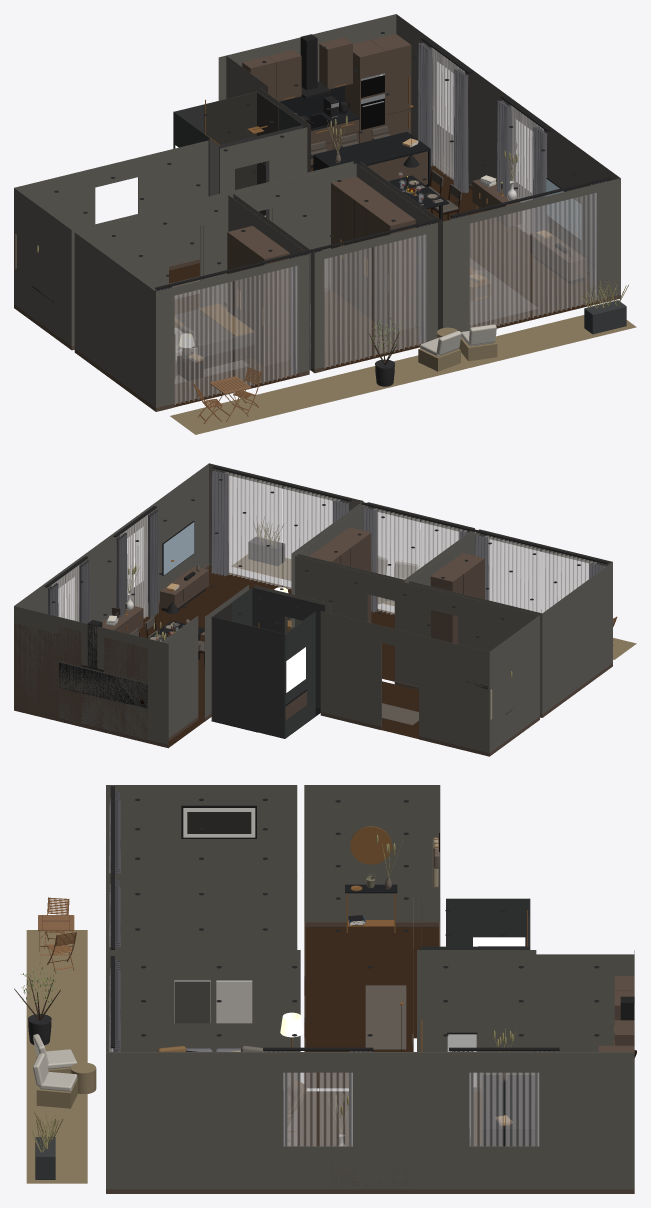
File: unit-1.C-noir.glb
3 views of the same model, one above another, from view 1: azimuth 30°, elevation 25°; view 2: azimuth 150°, elevation 25°; view 3: azimuth 270°, elevation 25° (orthographic). The views are drawn at different scales.
Parts seen in each view (by area): view 1: int-wall, int-sheer, int-joineryTall, int-floor, int-curtain, int-deck, int-joinery, int-matteBlack, int-showerWall, int-worktop, int-rug, int-bathWall (+12 smaller); view 2: int-wall, int-sheer, int-bathWall, int-joineryTall, int-curtain, int-joinery, int-floor, int-matteBlack, int-splash, int-skirting, int-hallFloor, int-deck (+6 smaller); view 3: int-wall, int-hallFloor, int-deck, int-sheer, int-worktop, int-bathWall, int-skirting, int-floor, int-rug, int-curtain, int-matteBlack, int-metal (+14 smaller).
Boxes of the visible parts, x1,y1,x2,y2 form: int-wall: [14, 14, 620, 407]; int-sheer: [174, 47, 597, 404]; int-joineryTall: [227, 34, 585, 365]; int-floor: [174, 163, 597, 407]; int-curtain: [155, 42, 606, 374]; int-deck: [170, 315, 636, 434]; int-joinery: [242, 37, 427, 184]; int-matteBlack: [155, 34, 610, 289]; int-showerWall: [204, 91, 278, 215]; int-worktop: [32, 108, 448, 302]; int-rug: [169, 258, 538, 383]; int-bathWall: [173, 91, 303, 219]; int-wall: [14, 463, 612, 752]; int-sheer: [51, 472, 596, 621]; int-bathWall: [211, 587, 325, 738]; int-joineryTall: [14, 527, 484, 721]; int-curtain: [48, 470, 605, 623]; int-joinery: [59, 626, 147, 739]; int-floor: [139, 568, 394, 747]; int-matteBlack: [44, 466, 608, 740]; int-splash: [59, 662, 147, 708]; int-skirting: [14, 564, 612, 756]; int-hallFloor: [382, 681, 418, 738]; int-deck: [231, 554, 636, 659]; int-wall: [106, 785, 634, 1189]; int-hallFloor: [304, 927, 438, 1088]; int-deck: [26, 930, 87, 1183]; int-sheer: [109, 798, 539, 1146]; int-worktop: [345, 884, 534, 1146]; int-bathWall: [420, 898, 530, 949]; int-skirting: [106, 922, 634, 1193]; int-floor: [298, 1091, 481, 1146]; int-rug: [287, 985, 406, 1145]; int-curtain: [113, 790, 558, 1146]; int-matteBlack: [110, 786, 634, 1050]; int-metal: [291, 826, 614, 1083].
Bounding box in the file's own units: 10.9 × 2.8 × 10.71.
